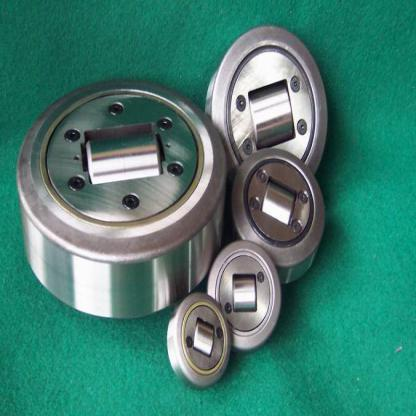FOD: (12, 85, 231, 317), (165, 297, 230, 390)
